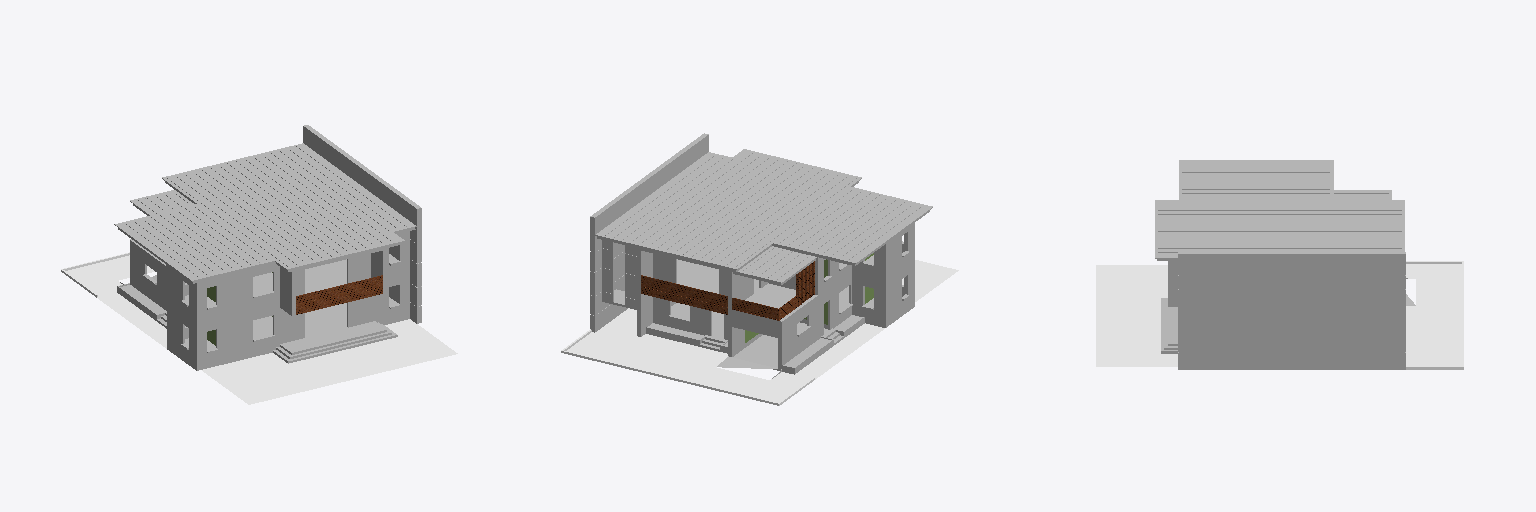
The picture shows the model from 3 angles: view 1: azimuth 30°, elevation 25°; view 2: azimuth 150°, elevation 25°; view 3: azimuth 270°, elevation 25°; orthographic projection.
Visible parts, largest first — view 1: modular_house_miniature; view 2: modular_house_miniature; view 3: modular_house_miniature.
Part boxes in pixels (left/top/right/bottom): modular_house_miniature: left=61, top=125, right=457, bottom=404; modular_house_miniature: left=561, top=133, right=958, bottom=405; modular_house_miniature: left=1096, top=160, right=1463, bottom=369.
Bounding box in the file's own units: 0.0397 × 0.019 × 0.0551.
7 materials, 1 textured.